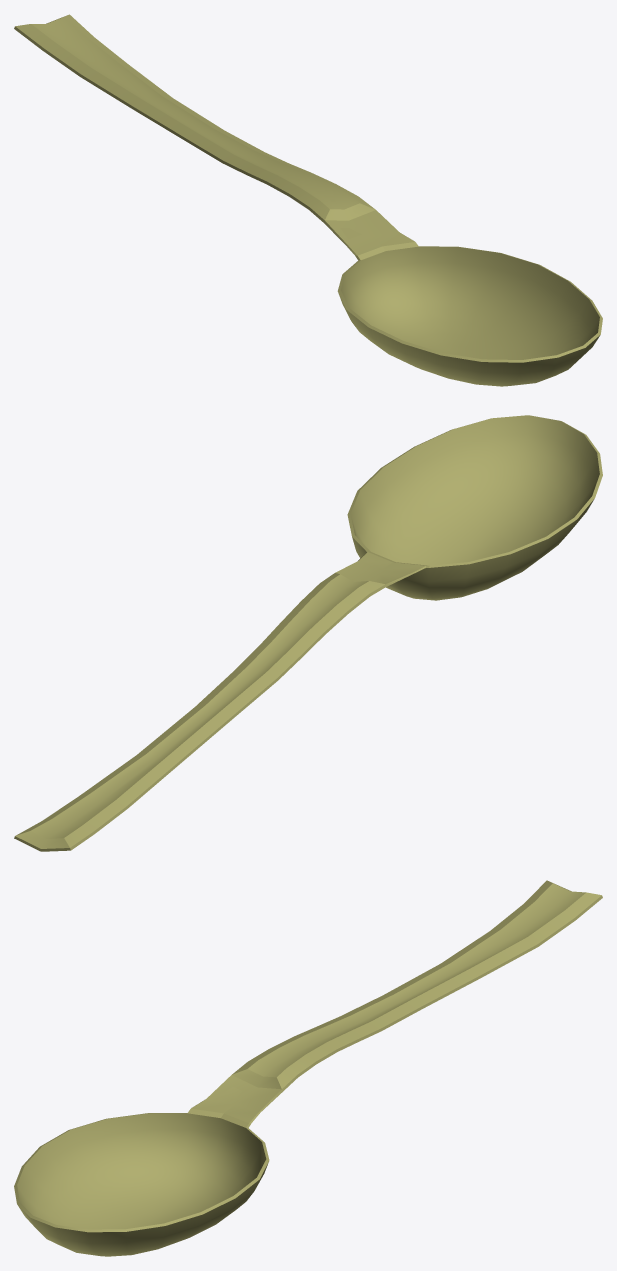
The model's file is CUCHARA.fbx.
The picture shows the model from 3 angles, top to bottom: view 1: azimuth 30°, elevation 25°; view 2: azimuth 150°, elevation 25°; view 3: azimuth 330°, elevation 25°; orthographic projection.
Visible parts, largest first — view 1: cuchara; view 2: cuchara; view 3: cuchara.
Part boxes in pixels (bbox=[...]): cuchara: bbox=[14, 14, 602, 386]; cuchara: bbox=[14, 415, 602, 851]; cuchara: bbox=[14, 880, 602, 1256].
Bounding box in the file's own units: 4.39 × 1.59 × 19.8.
